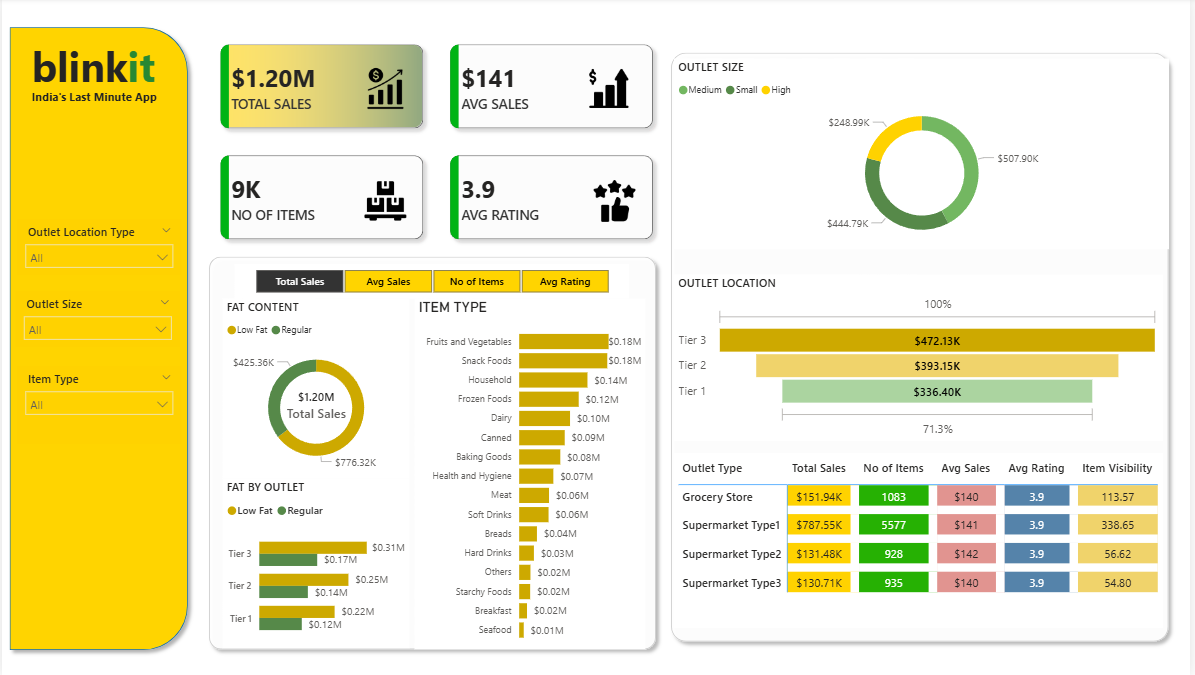

This screenshot's page, from the dashboard's own definition file:
{"tool":"powerbi","page":{"name":"Page 1","canvas":[1400,800],"ordinal":0},"visuals":[{"type":"shape","box":[0,26,228,752],"z":0},{"type":"textbox","box":[30,42,168,76],"z":1000},{"type":"textbox","box":[30,102,168,30],"z":2000},{"type":"cardVisual","fields":{"Data":["BlinkIT Grocery Data.Total Sales","BlinkIT Grocery Data.Avg Sales","BlinkIT Grocery Data.No of Items","BlinkIT Grocery Data.Avg Rating"]},"box":[228,26.5,569.1,288.1],"z":3000},{"type":"image","box":[685.7,83.1,58.3,49.5],"z":4000},{"type":"image","box":[422.4,83.1,58.3,49.5],"z":5000},{"type":"image","box":[422.4,215.6,58.3,49.5],"z":6000},{"type":"image","box":[685.7,215.6,72.5,49.5],"z":7000},{"type":"shape","box":[235.1,296.9,544.3,480.7],"z":8000},{"type":"donutChart","title":"FAT CONTENT","fields":{"Y":["BlinkIT Grocery Data.Total Sales"],"Category":["BlinkIT Grocery Data.Item Fat Content"]},"box":[260,356,220,212],"z":9000},{"type":"slicer","fields":{"Values":["Metric.Metric"]},"box":[273.9,314.6,464.8,40.6],"z":10000},{"type":"cardVisual","fields":{"Data":["BlinkIT Grocery Data.Total Sales"]},"box":[300,438,140,84],"z":11000},{"type":"clusteredBarChart","title":"FAT BY OUTLET","fields":{"Y":["BlinkIT Grocery Data.Total Sales"],"Category":["BlinkIT Grocery Data.Outlet Location Type"],"Series":["BlinkIT Grocery Data.Item Fat Content"]},"box":[260,568,220,200],"z":12000},{"type":"barChart","title":"ITEM TYPE","fields":{"Y":["BlinkIT Grocery Data.Total Sales"],"Category":["BlinkIT Grocery Data.Item Type"]},"box":[486,355.2,272.2,413.6],"z":13000},{"type":"shape","box":[780,56,604,712],"z":14000},{"type":"donutChart","title":"OUTLET SIZE","fields":{"Y":["BlinkIT Grocery Data.Total Sales"],"Category":["BlinkIT Grocery Data.Outlet Size"]},"box":[791.8,72.5,583.2,224.5],"z":16000},{"type":"funnel","title":"OUTLET LOCATION","fields":{"Y":["BlinkIT Grocery Data.Total Sales"],"Category":["BlinkIT Grocery Data.Outlet Location Type"]},"box":[791.8,327,576.2,196.2],"z":17000},{"type":"pivotTable","fields":{"Rows":["BlinkIT Grocery Data.Outlet Type"],"Values":["BlinkIT Grocery Data.Total Sales","BlinkIT Grocery Data.No of Items","BlinkIT Grocery Data.Avg Sales","BlinkIT Grocery Data.Avg Rating","Sum(BlinkIT Grocery Data.Item Visibility)"]},"box":[792,538,576,206],"z":18000},{"type":"slicer","fields":{"Values":["BlinkIT Grocery Data.Outlet Location Type"]},"box":[18,262,194,66],"z":19000},{"type":"slicer","fields":{"Values":["BlinkIT Grocery Data.Outlet Size"]},"box":[16,346,194,66],"z":20000},{"type":"slicer","fields":{"Values":["BlinkIT Grocery Data.Item Type"]},"box":[18,434,194,92],"z":21000}]}

Visuals, with their boxes in screenshot pixels (x1, y1, x2, y2), scaled from the page's 1400x800 canvas onto the 1195x675 screenshot:
shape: bbox=[0, 22, 195, 656]
textbox: bbox=[26, 35, 169, 100]
textbox: bbox=[26, 86, 169, 111]
cardVisual - BlinkIT Grocery Data.Total Sales x BlinkIT Grocery Data.Avg Sales: bbox=[195, 22, 680, 265]
image: bbox=[585, 70, 635, 112]
image: bbox=[361, 70, 410, 112]
image: bbox=[361, 182, 410, 224]
image: bbox=[585, 182, 647, 224]
shape: bbox=[201, 251, 665, 656]
"FAT CONTENT" donutChart: bbox=[222, 300, 410, 479]
slicer - Metric.Metric: bbox=[234, 265, 631, 300]
cardVisual - BlinkIT Grocery Data.Total Sales: bbox=[256, 370, 376, 440]
"FAT BY OUTLET" clusteredBarChart: bbox=[222, 479, 410, 648]
"ITEM TYPE" barChart: bbox=[415, 300, 647, 649]
shape: bbox=[666, 47, 1181, 648]
"OUTLET SIZE" donutChart: bbox=[676, 61, 1174, 251]
"OUTLET LOCATION" funnel: bbox=[676, 276, 1168, 441]
pivotTable - BlinkIT Grocery Data.Outlet Type x BlinkIT Grocery Data.Total Sales: bbox=[676, 454, 1168, 628]
slicer - BlinkIT Grocery Data.Outlet Location Type: bbox=[15, 221, 181, 277]
slicer - BlinkIT Grocery Data.Outlet Size: bbox=[14, 292, 179, 348]
slicer - BlinkIT Grocery Data.Item Type: bbox=[15, 366, 181, 444]
